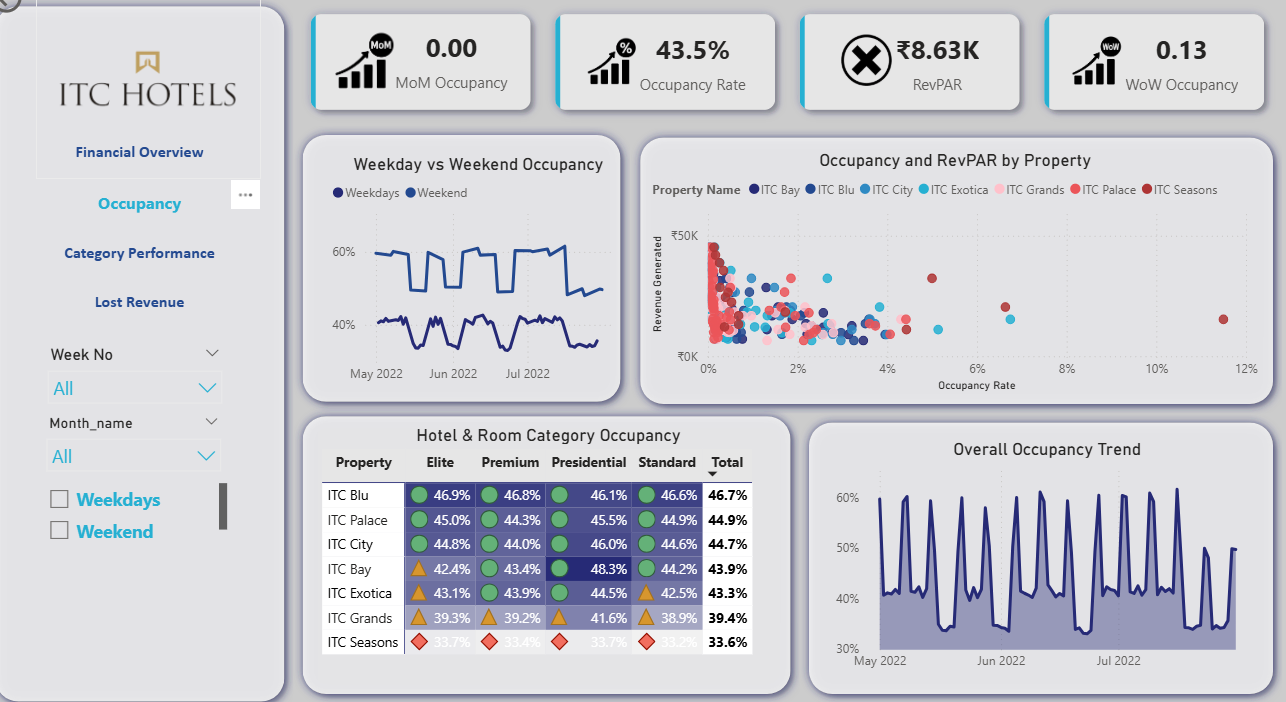

The page's visual inventory and layout, read from the dashboard file:
{"tool":"powerbi","page":{"name":"Occupancy","canvas":[1280,720],"ordinal":1},"visuals":[{"type":"shape","box":[633.1,148.5,639.3,279.8],"z":0},{"type":"shape","box":[798.8,428.2,473.6,284.7],"z":1000},{"type":"shape","box":[301.8,422.1,496.9,290.8],"z":2000},{"type":"shape","box":[301.8,146,330,280],"z":3000},{"type":"shape","box":[0,19.6,301.8,700.6],"z":4000},{"type":"pivotTable","title":"Hotel & Room Category Occupancy","fields":{"Values":["dax.Occupancy_rate"],"Rows":["Hotels.property_name"],"Columns":["rooms.room_class"]},"box":[325.2,439.3,454,260.1],"z":5000},{"type":"actionButton","box":[0,0,100,40],"z":6000},{"type":"slicer","fields":{"Values":["Calendar.day_type"]},"box":[50.3,492,191.4,67.5],"z":7000},{"type":"slicer","fields":{"Values":["Calendar.Month_name"]},"box":[49.1,424.5,191.4,67.5],"z":8000},{"type":"slicer","fields":{"Values":["Calendar.Week_no"]},"box":[50.3,357.1,191.4,67.5],"z":9000},{"type":"lineChart","title":"Overall Occupancy Trend","fields":{"Category":["Calendar.Date"],"Y":["dax.Occupancy_rate"]},"box":[829.5,452.8,424.5,236.8],"z":10000},{"type":"pageNavigator","box":[50.3,152.1,201.2,186.5],"z":11000},{"type":"image","box":[49.1,0,220.9,198.8],"z":12000},{"type":"scatterChart","title":"Occupancy and RevPAR by Property","fields":{"X":["dax.Occupancy_rate"],"Series":["Hotels.property_name"],"Y":["Bookings.revenue_generated"]},"box":[649.1,169.3,604.9,242.9],"z":13000},{"type":"lineChart","title":"Weekday vs Weekend Occupancy","fields":{"Y":["dax.Occupancy_rate"],"Category":["Calendar.Date"],"Series":["Calendar.day_type"]},"box":[335,173,296.9,234.4],"z":14000},{"type":"cardVisual","fields":{"Data":["dax.Mom_occupancy","dax.Occupancy_rate","dax.RevPAR","dax.wow_occupancy"]},"box":[301.8,19.6,970.6,128.8],"z":15000}]}

Visuals, with their boxes on the page's 1280x720 design canvas (x1, y1, x2, y2). These are canvas units, not pixel positions in the 1286x702 screenshot, which may show the page scaled, cropped or inside an application window:
shape: [x1=633, y1=148, x2=1272, y2=428]
shape: [x1=799, y1=428, x2=1272, y2=713]
shape: [x1=302, y1=422, x2=799, y2=713]
shape: [x1=302, y1=146, x2=632, y2=426]
shape: [x1=0, y1=20, x2=302, y2=720]
"Hotel & Room Category Occupancy" pivotTable: [x1=325, y1=439, x2=779, y2=699]
actionButton: [x1=0, y1=0, x2=100, y2=40]
slicer - Calendar.day_type: [x1=50, y1=492, x2=242, y2=560]
slicer - Calendar.Month_name: [x1=49, y1=424, x2=240, y2=492]
slicer - Calendar.Week_no: [x1=50, y1=357, x2=242, y2=425]
"Overall Occupancy Trend" lineChart: [x1=830, y1=453, x2=1254, y2=690]
pageNavigator: [x1=50, y1=152, x2=252, y2=339]
image: [x1=49, y1=0, x2=270, y2=199]
"Occupancy and RevPAR by Property" scatterChart: [x1=649, y1=169, x2=1254, y2=412]
"Weekday vs Weekend Occupancy" lineChart: [x1=335, y1=173, x2=632, y2=407]
cardVisual - dax.Mom_occupancy x dax.Occupancy_rate: [x1=302, y1=20, x2=1272, y2=148]
